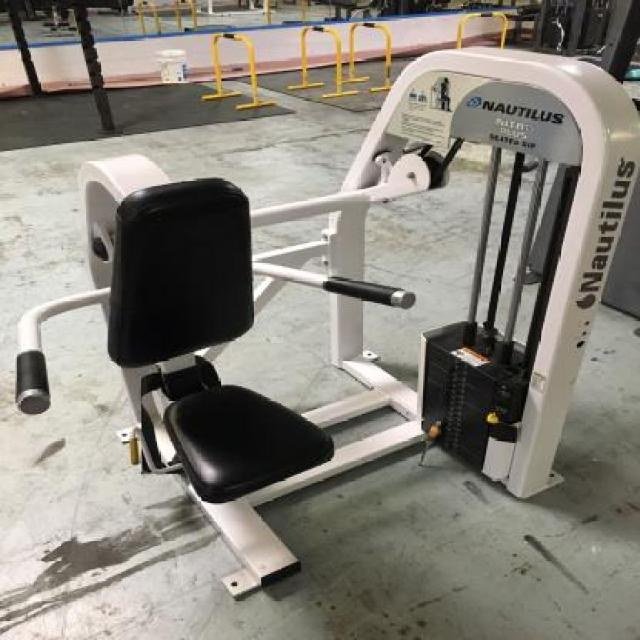seated dip machine: (14, 45, 640, 600)
